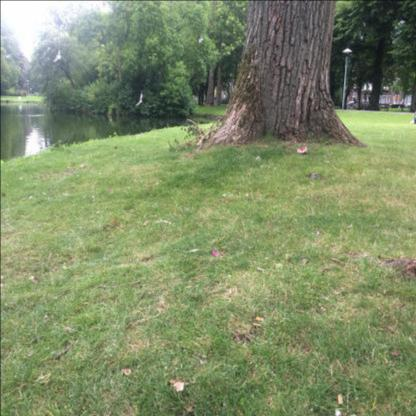Can: (298, 146, 306, 153)
Cigarette: (256, 316, 264, 321), (252, 323, 260, 326)
